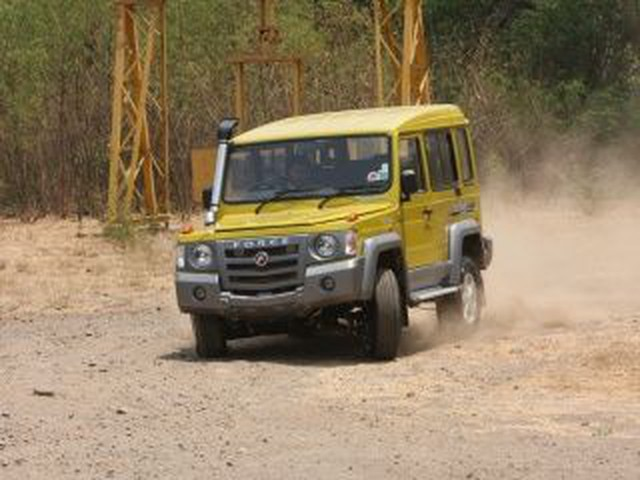Vehicle: (169, 103, 493, 360)
